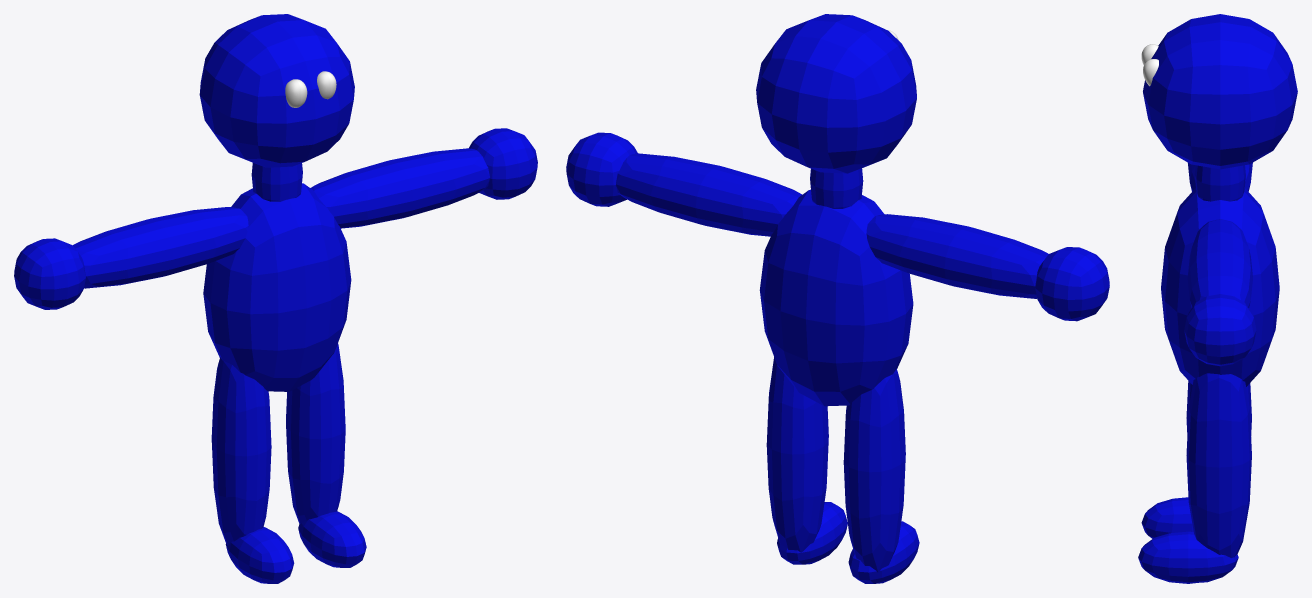
File: bob.fbx
3 renders of one model, left to right at view 1: azimuth 30°, elevation 25°; view 2: azimuth 150°, elevation 25°; view 3: azimuth 270°, elevation 25°, orthographic. The views are drawn at different scales.
Visible parts, largest first — view 1: Cube, Cube.004, Cube.006, Cube.005, Cube.002, Cube.001, Cube.012, Cube.011, Cube.009, Cube.010, Cube.003; view 2: Cube, Cube.004, Cube.002, Cube.006, Cube.005, Cube.001, Cube.012, Cube.011, Cube.009, Cube.003, Cube.010; view 3: Cube.004, Cube.001, Cube, Cube.005, Cube.011, Cube.009, Cube.003, Cube.010, Cube.006, Cube.007, Cube.002.
Boxes of the visible parts, x1,y1,x2,y2 form: Cube: (203,183,351,391); Cube.004: (199,14,354,167); Cube.006: (73,207,248,288); Cube.005: (310,148,489,228); Cube.002: (211,357,271,545); Cube.001: (286,343,345,523); Cube.012: (14,238,85,309); Cube.011: (469,128,537,199); Cube.009: (298,511,366,567); Cube.010: (225,526,294,583); Cube.003: (251,163,302,201); Cube: (759,189,913,406); Cube.004: (756,14,916,173); Cube.002: (843,368,905,572); Cube.006: (866,214,1048,298); Cube.005: (616,153,801,236); Cube.001: (766,357,828,552); Cube.012: (1035,247,1109,321); Cube.011: (566,132,637,206); Cube.009: (777,502,847,564); Cube.003: (810,168,863,208); Cube.010: (848,521,919,583); Cube.004: (1143,14,1297,169); Cube.001: (1186,373,1251,557); Cube: (1161,188,1279,386); Cube.005: (1187,219,1252,307); Cube.011: (1184,294,1256,366); Cube.009: (1138,531,1238,583); Cube.003: (1194,165,1245,201); Cube.010: (1141,497,1193,538); Cube.006: (1188,162,1252,191); Cube.007: (1143,59,1158,86); Cube.002: (1186,381,1251,436).
Size of the model in its own units: 645 by 643 by 173.
